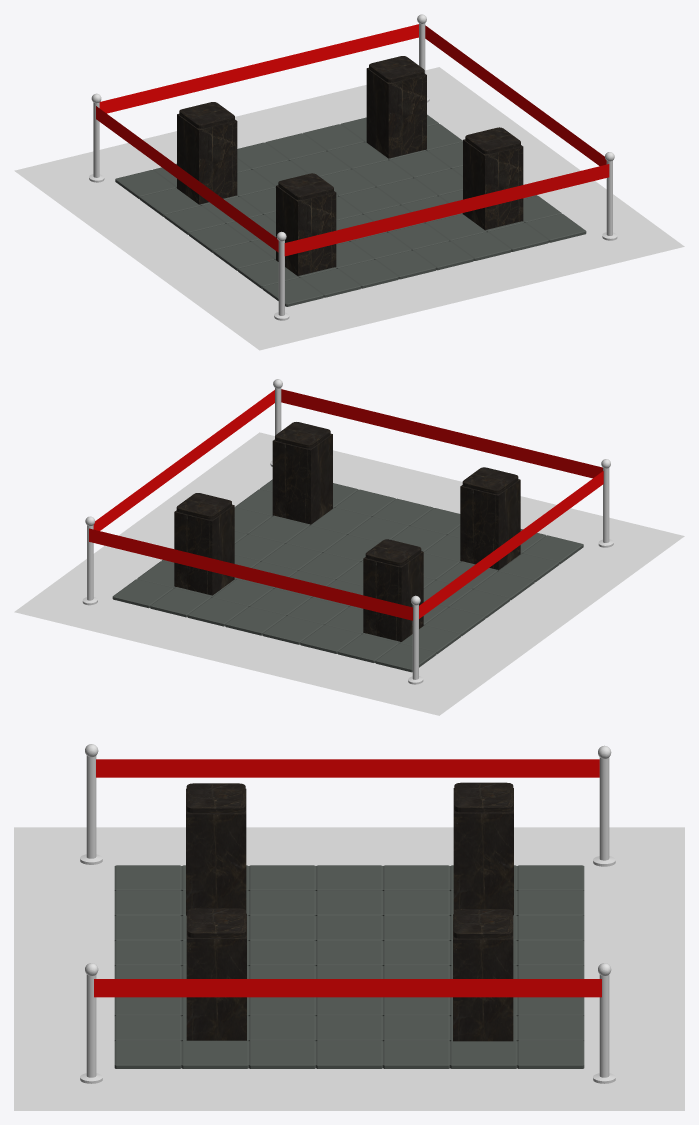
The model's file is 3D_Portfolio_.glb.
The picture shows the model from 3 angles, top to bottom: view 1: azimuth 30°, elevation 25°; view 2: azimuth 150°, elevation 25°; view 3: azimuth 270°, elevation 25°; orthographic projection. The views are drawn at different scales.
Visible parts, largest first — view 1: Plane.003, Plane.002, Cube.003, Plane.004, Plane.006, Cube.001, Cube.007, Cube.005, Plane.007, Plane.005, Cube.008, Cube.006 (+6 smaller); view 2: Plane.003, Plane.002, Cube.007, Plane.006, Plane.004, Cube.005, Cube.003, Cube.001, Plane.007, Plane.005, Cube.006, Cube.002 (+6 smaller); view 3: Plane.003, Plane.002, Plane.005, Plane.007, Cube.001, Cube.005, Cube.003, Cube.007, Cube.002, Cube.008, Cube.004, Cube.006 (+4 smaller).
Boxes of the visible parts, left/top/right/bottom form: Plane.003: left=14, top=67, right=684, bottom=350; Plane.002: left=115, top=114, right=586, bottom=306; Cube.003: left=366, top=67, right=426, bottom=158; Plane.004: left=284, top=164, right=609, bottom=256; Plane.006: left=99, top=24, right=418, bottom=113; Cube.001: left=177, top=114, right=237, bottom=204; Cube.007: left=463, top=139, right=523, bottom=230; Cube.005: left=276, top=185, right=336, bottom=276; Plane.007: left=96, top=106, right=278, bottom=252; Plane.005: left=425, top=25, right=606, bottom=165; Cube.008: left=465, top=127, right=520, bottom=154; Cube.006: left=278, top=173, right=333, bottom=200; Plane.003: left=14, top=432, right=684, bottom=715; Plane.002: left=112, top=479, right=583, bottom=672; Cube.007: left=272, top=433, right=332, bottom=524; Plane.006: left=89, top=528, right=412, bottom=620; Plane.004: left=281, top=389, right=602, bottom=478; Cube.005: left=460, top=479, right=520, bottom=570; Cube.003: left=174, top=504, right=234, bottom=595; Cube.001: left=363, top=551, right=423, bottom=641; Plane.007: left=419, top=471, right=603, bottom=618; Plane.005: left=93, top=390, right=274, bottom=530; Cube.006: left=462, top=467, right=518, bottom=494; Cube.002: left=365, top=539, right=421, bottom=566; Plane.003: left=14, top=827, right=684, bottom=1110; Plane.002: left=114, top=865, right=584, bottom=1068; Plane.005: left=94, top=979, right=601, bottom=997; Plane.007: left=96, top=759, right=599, bottom=777; Cube.001: left=453, top=788, right=513, bottom=915; Cube.005: left=186, top=788, right=246, bottom=915; Cube.003: left=453, top=914, right=513, bottom=1041; Cube.007: left=186, top=913, right=246, bottom=1040; Cube.002: left=454, top=782, right=513, bottom=812; Cube.008: left=187, top=908, right=246, bottom=937; Cube.004: left=453, top=909, right=512, bottom=938; Cube.006: left=186, top=783, right=245, bottom=812.
Size of what is drawn, in the model's own units: 10 by 1.92 by 10.
7 materials, 1 textured.
